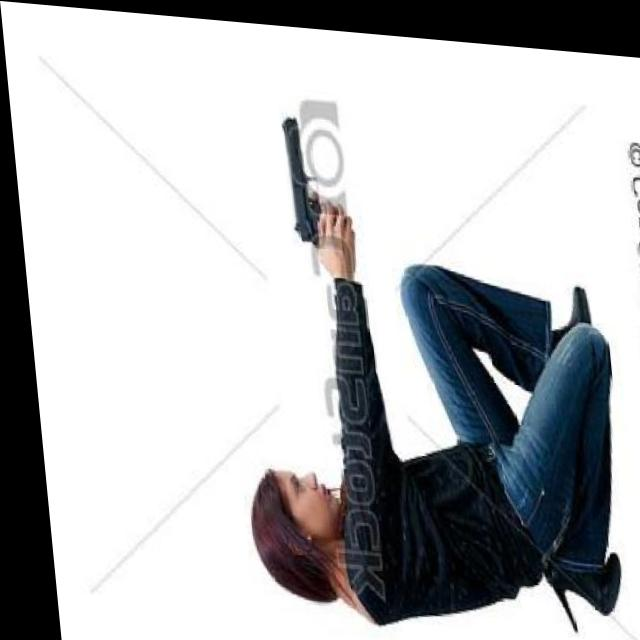handgun: (272, 110, 361, 261)
